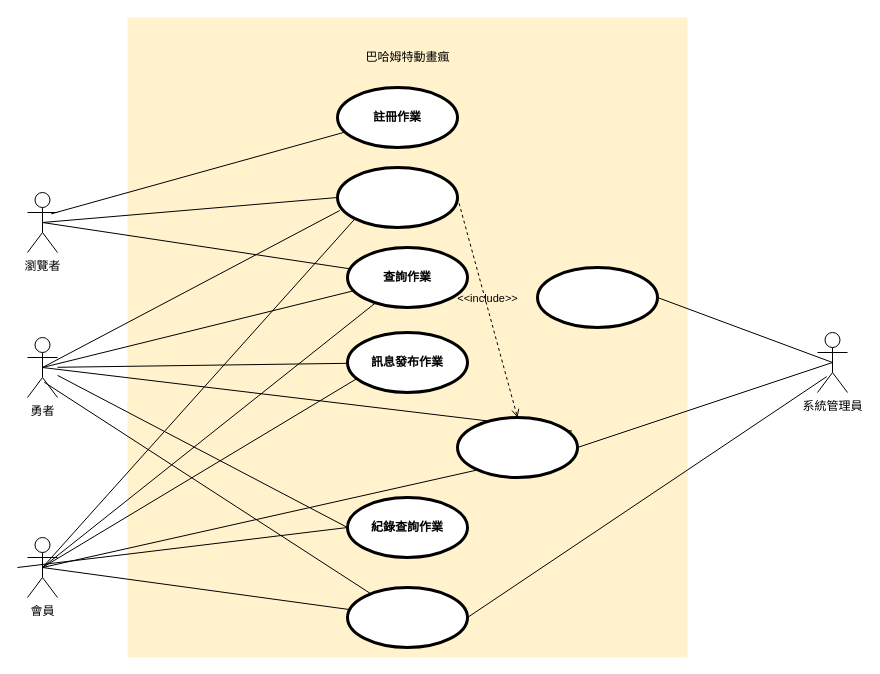
This 880x674 diagram has some shape labels left out. The centre of each missing label's shape, as x and y in pixels:
"動畫播放作業" goes at (397,197).
"問題申報作業" goes at (407,617).
"數據檢視作業" goes at (597,297).
"登入作業" goes at (517,447).
